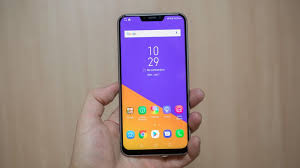asus: (113, 11, 192, 156)
